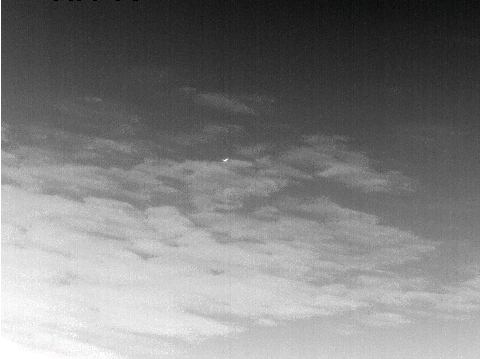dim target: (222, 157, 229, 163)
